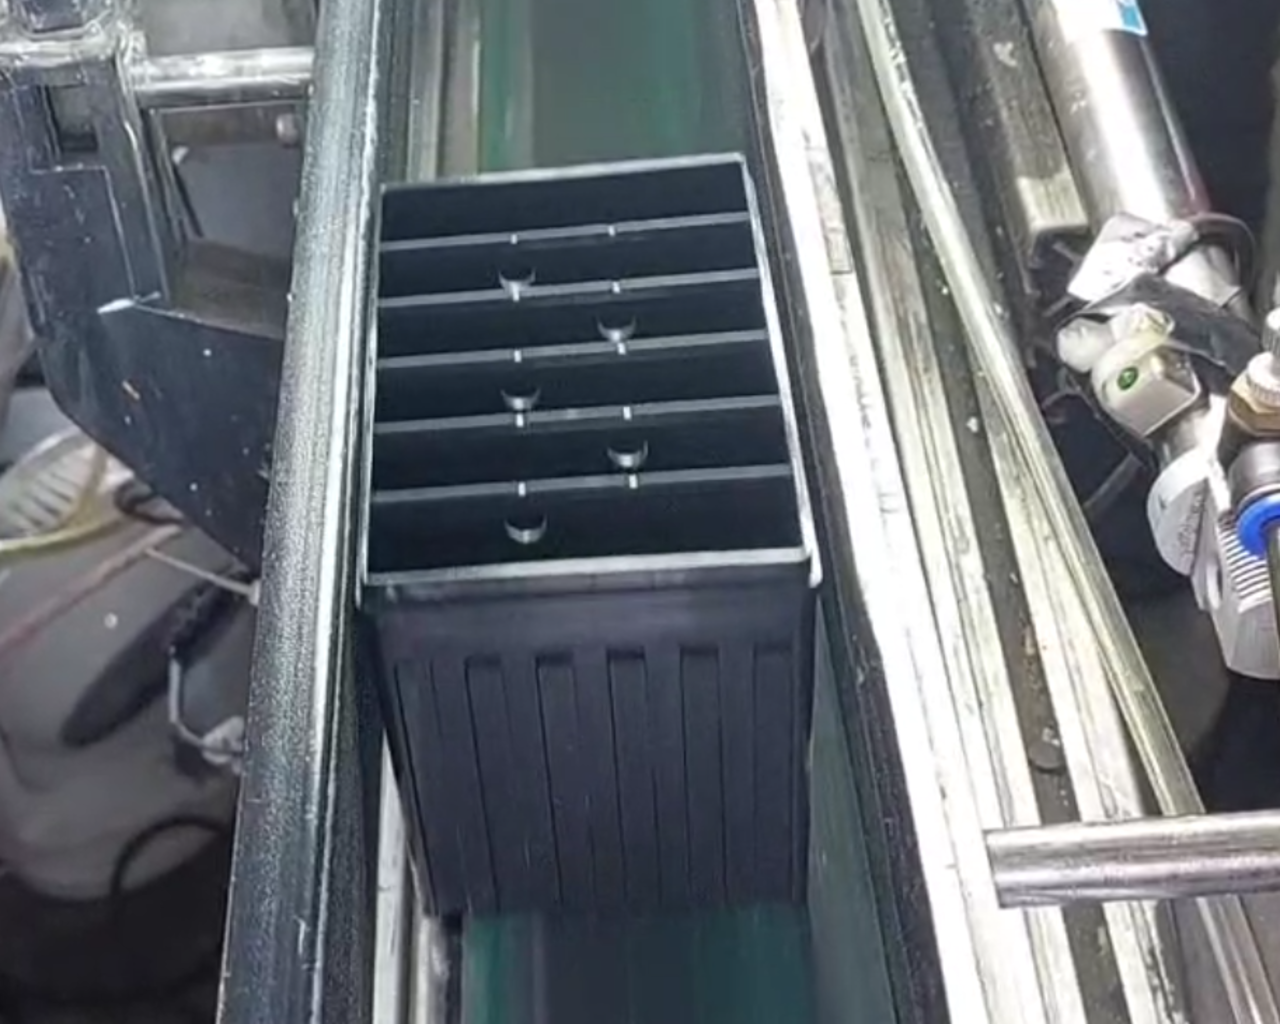box: (342, 139, 834, 628)
round: (487, 495, 558, 551), (592, 419, 659, 478), (587, 295, 646, 347), (487, 364, 549, 412), (485, 247, 545, 294)
